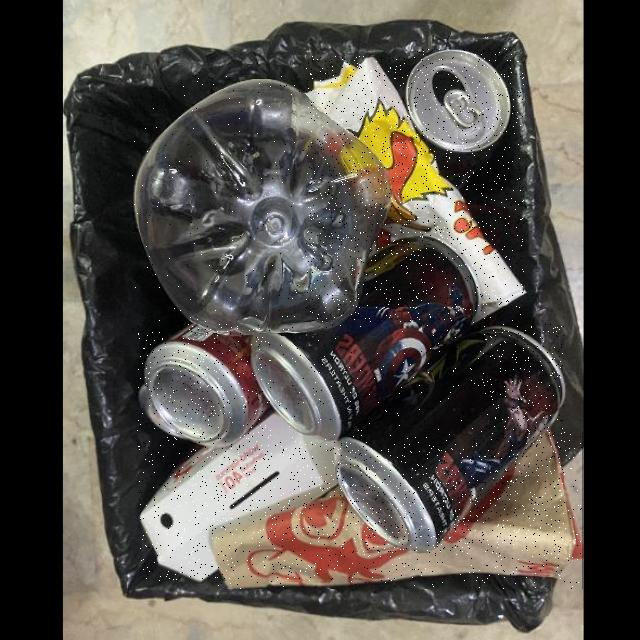metal: (334, 324, 564, 552), (251, 234, 480, 441), (138, 324, 271, 446), (405, 48, 512, 188)
paper: (212, 432, 583, 588), (306, 56, 524, 321), (140, 409, 338, 581)
plastic: (133, 76, 393, 335)
